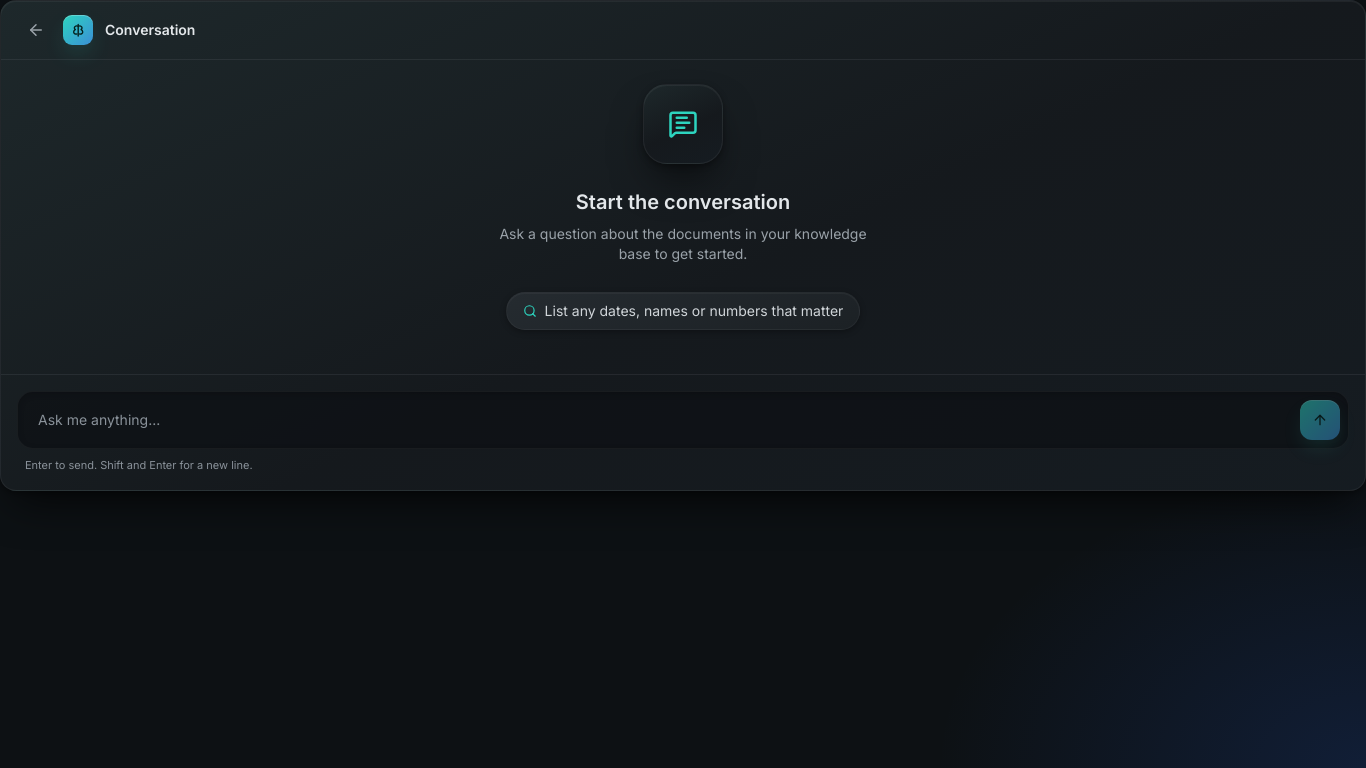
Test case: chat streaming › C04 the stop button cancels the request and marks the answer as interrupted
Expected: the heading "Start the conversation" is shown, [576, 188, 790, 216]
Type "Summarise the report" into the text box named "Message" at {"x": 659, "y": 420}, box [26, 400, 1292, 440]
Then press Enter
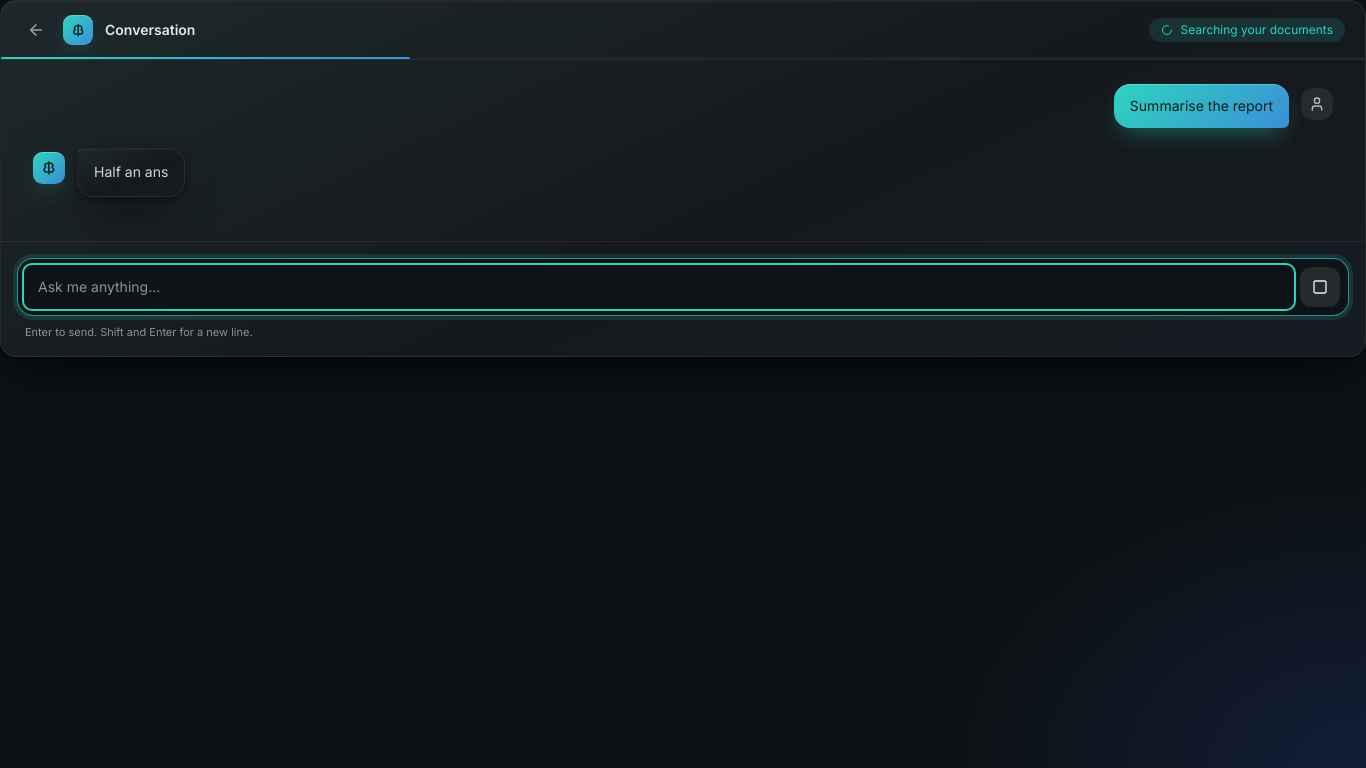
Result: the text "Half an ans" is shown at [94, 161, 168, 184]
Click the button named "Stop" at {"x": 1320, "y": 287}, box [1300, 267, 1340, 307]
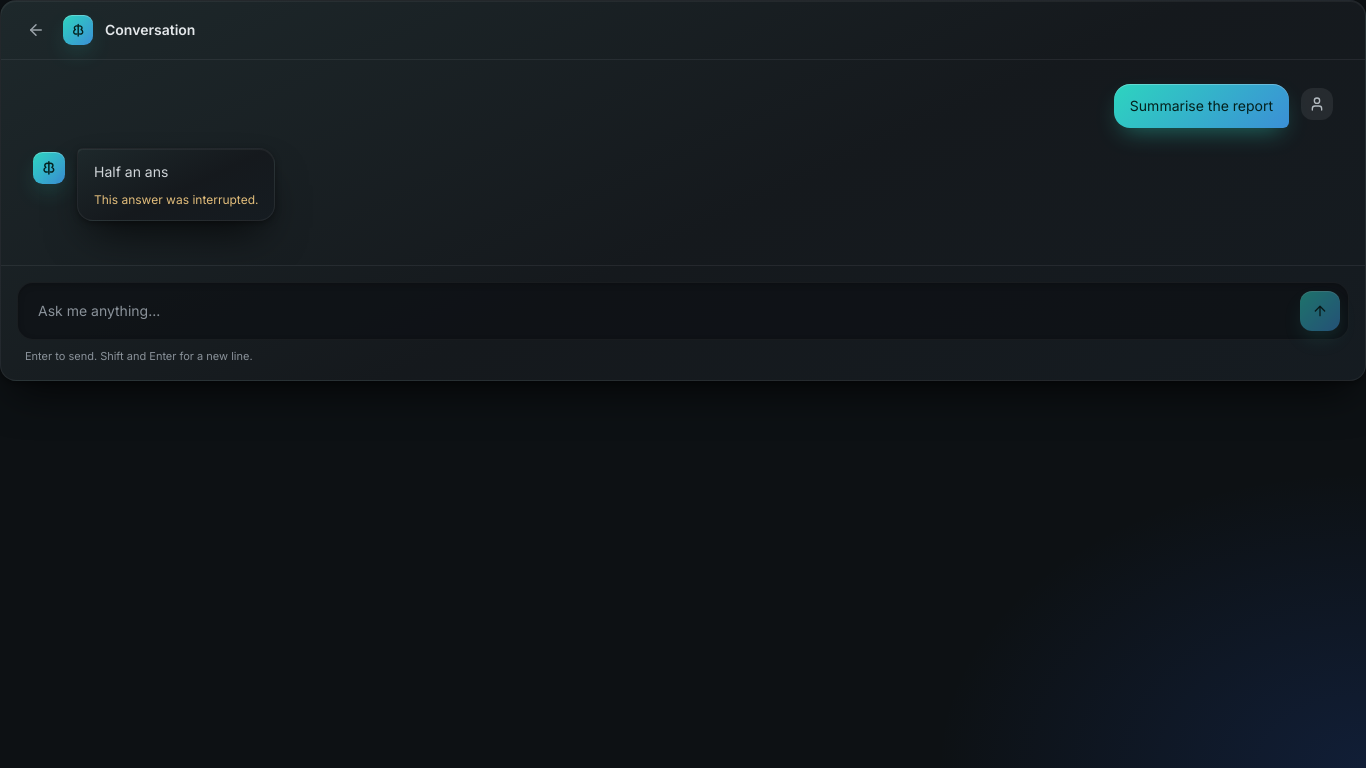
Result: the text "Half an ans" is shown at [94, 163, 168, 180]
Result: the text "This answer was interrupted." is shown at [94, 192, 258, 208]
Result: the button named "Send" is shown at [1300, 291, 1340, 331]
